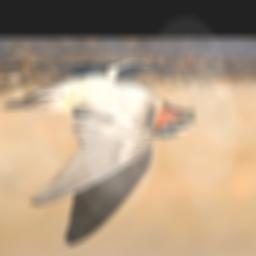Swallow: (0, 60, 197, 246)
